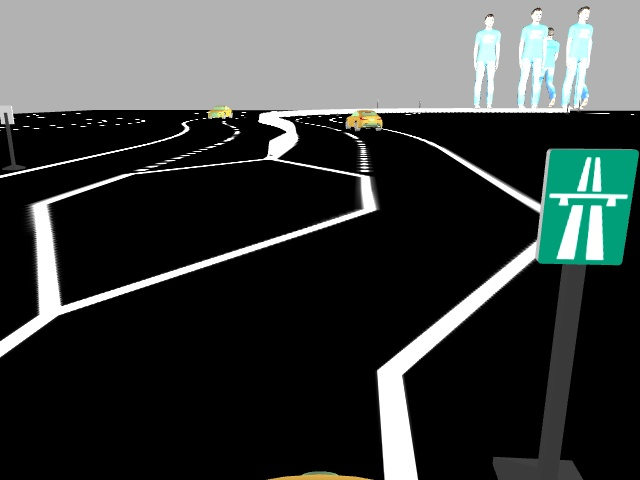HighwayEntrance: (536, 143, 639, 267)
